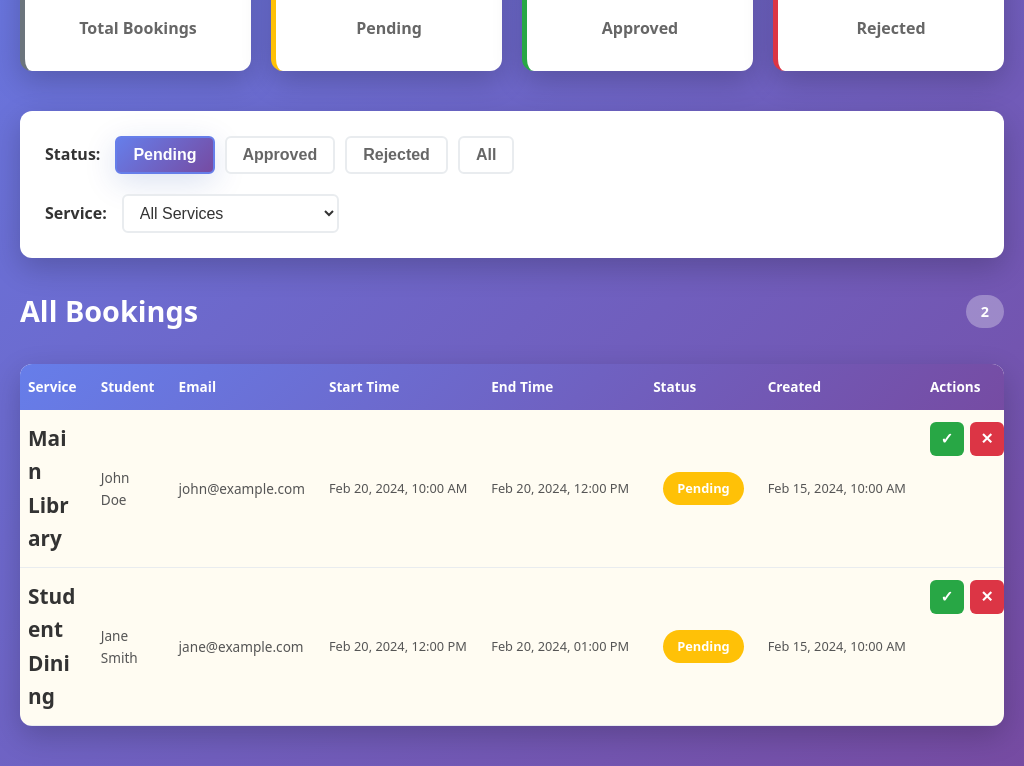
Test case: AdminDashboard Page Component › opens modal when reject button is clicked
(page scrolled)
Click the button titled "Reject booking" in the row of "Main Library". click: (987, 439)
box: [970,422,1004,456]
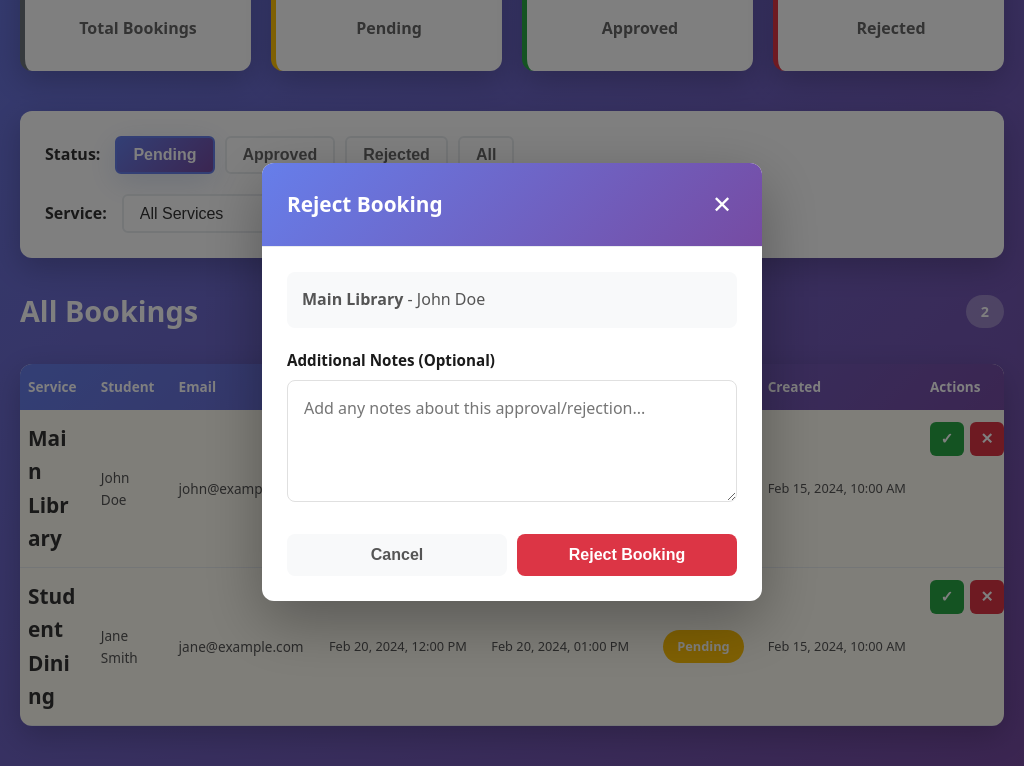
Now the heading "Reject Booking" is shown, box [287,188,443,221]
